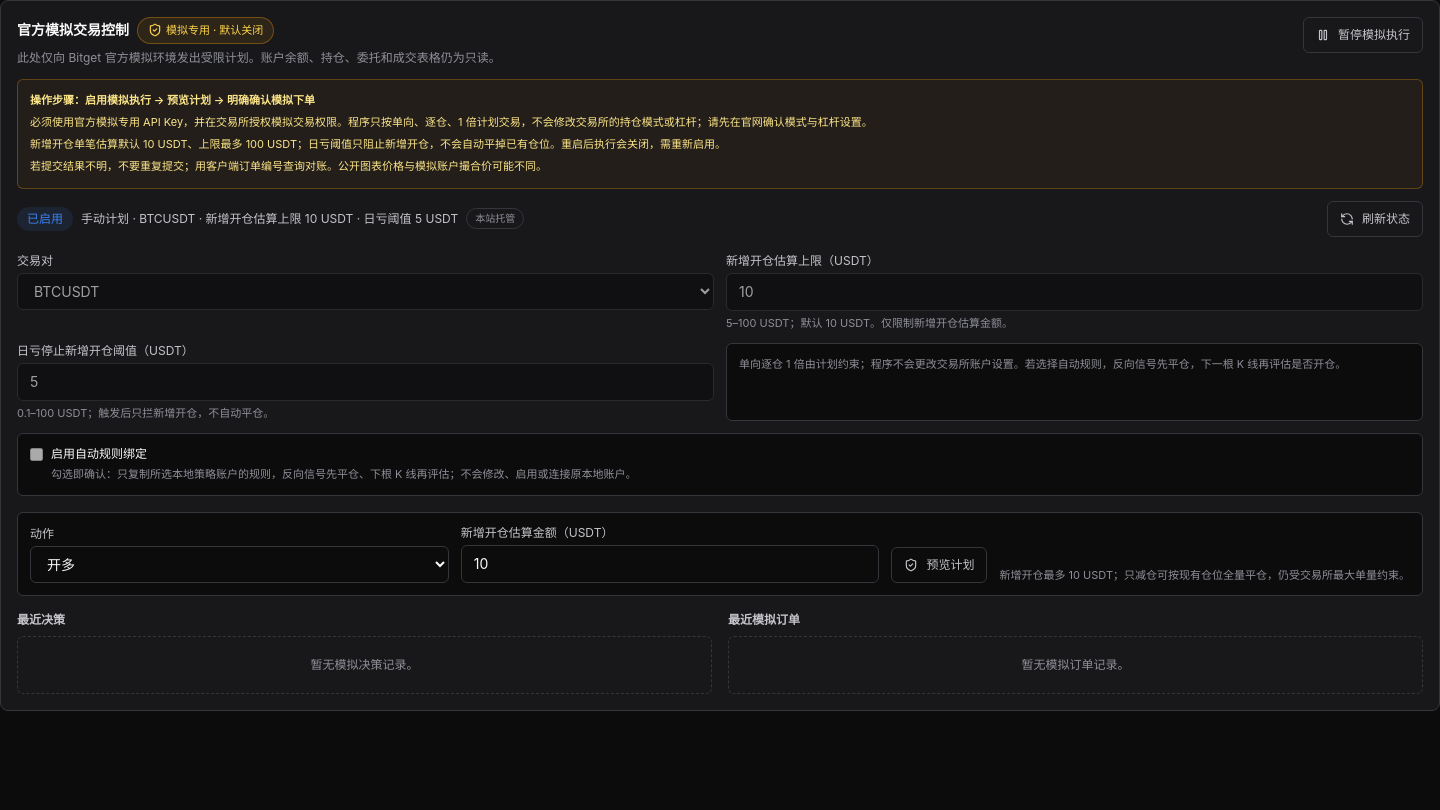
Test: blocks confirmation after a plan expires
The image size is (1440, 810).
Click the button "预览计划" at (939, 565), box [891, 547, 987, 583]
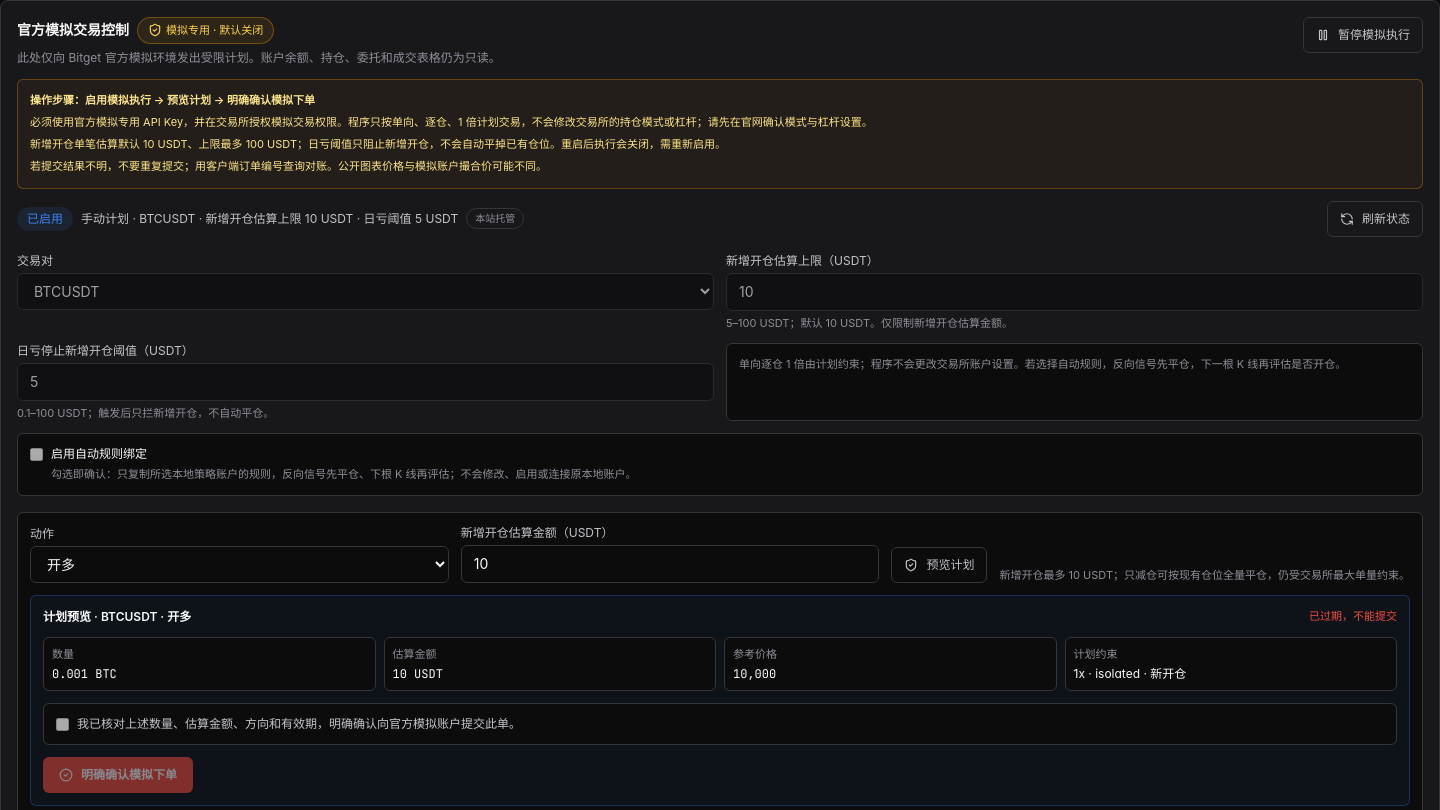
expect the text "已过期，不能提交" is shown: met, box [1309, 608, 1397, 625]
expect the button "明确确认模拟下单" is disabled: met, box [43, 757, 193, 793]
